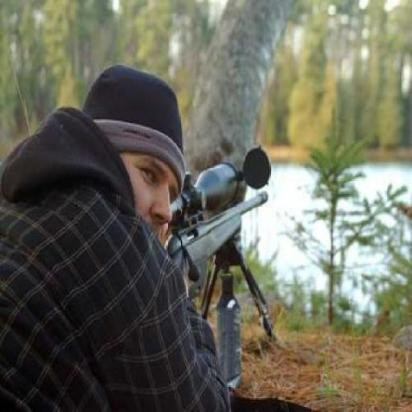Gun: (160, 162, 276, 335)
